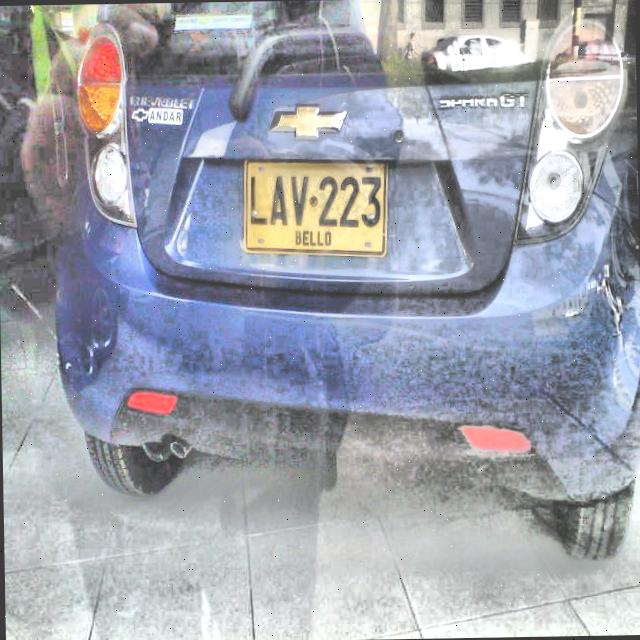plate: (246, 161, 386, 254)
